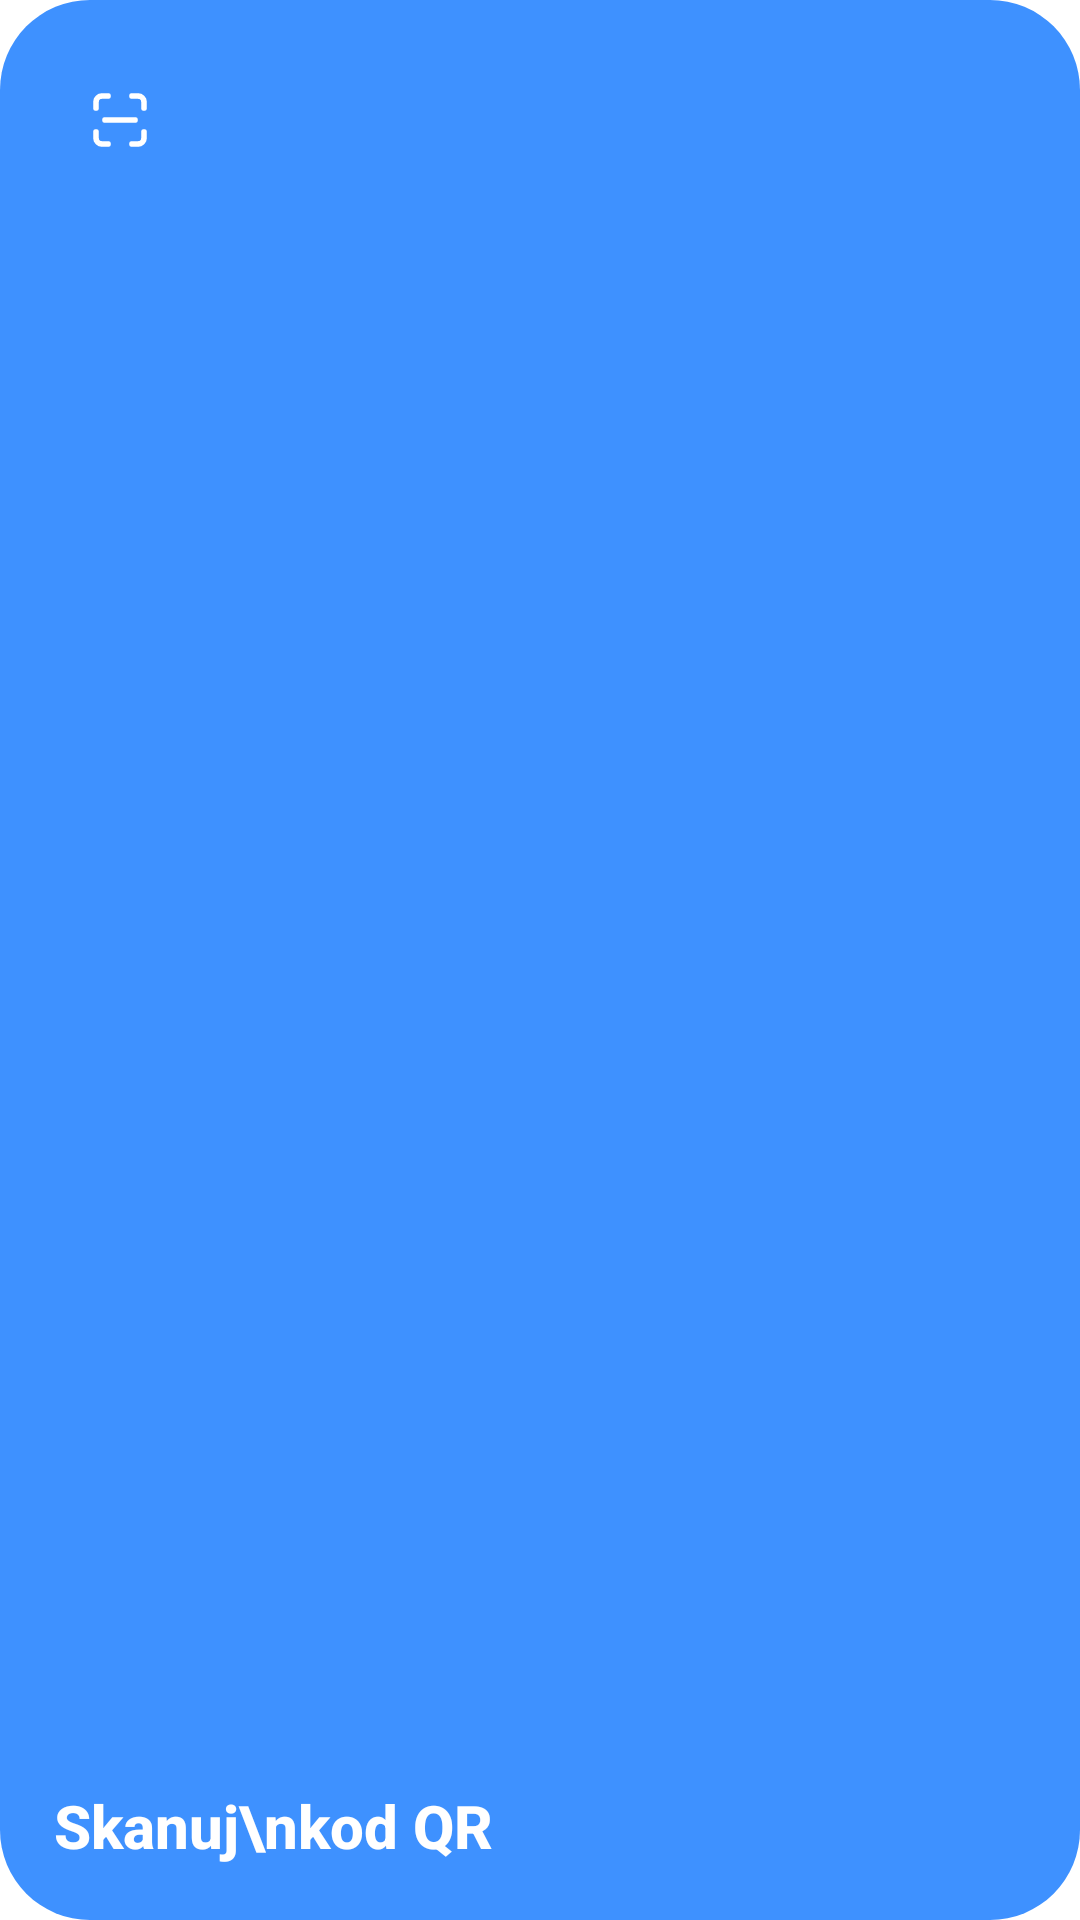

Screen size 1080 x 1920. Icon name, then its box in pixels as (x1, y1, x2, y2):
scan: (93, 93, 147, 147)
